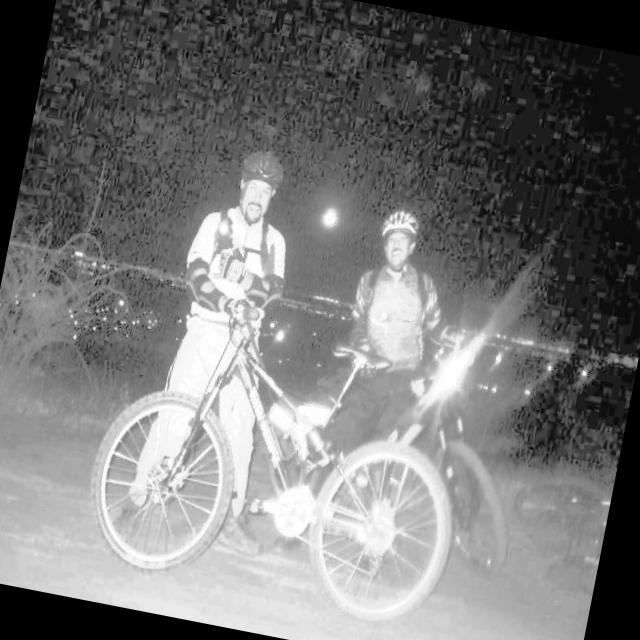Bicycle: (69, 273, 492, 632)
